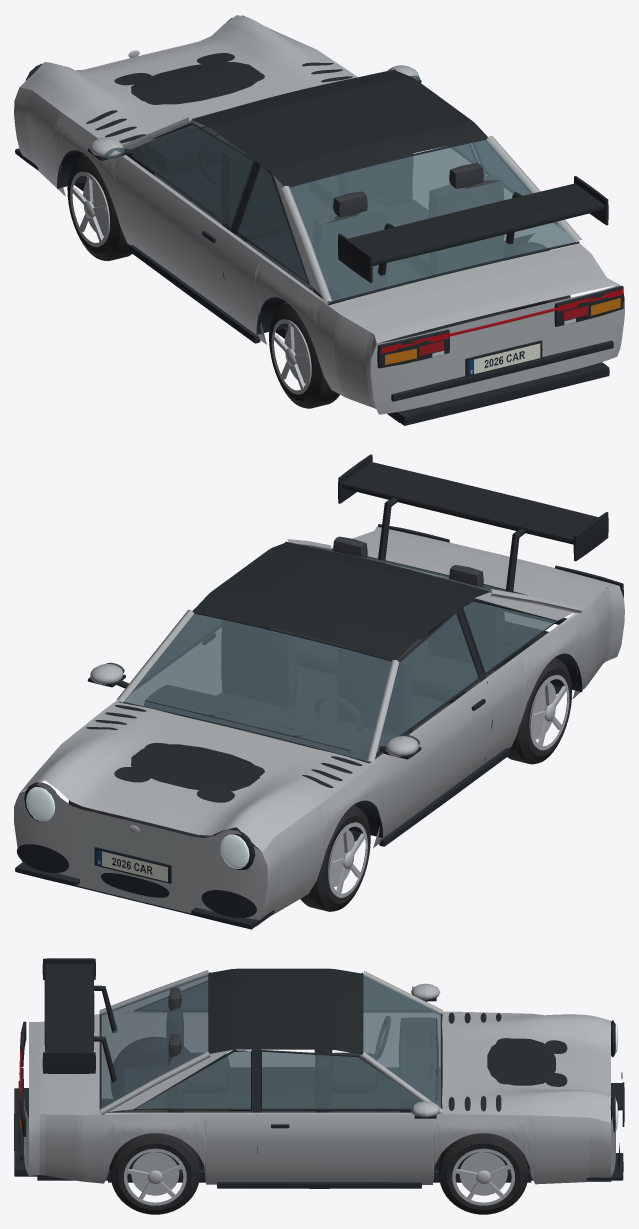
The model's file is Entrega_27_LOD0.glb.
3 views of the same model, one above another, from view 1: azimuth 30°, elevation 25°; view 2: azimuth 150°, elevation 25°; view 3: azimuth 270°, elevation 25° (orthographic). The views are drawn at different scales.
Parts seen in each view (by area): view 1: Body, Glass, Interior, RearWing, Wheel_RL, Wheel_FL, TailLights, Plates; view 2: Body, Glass, Interior, RearWing, Wheel_FL, Wheel_RL, Headlights, Plates; view 3: Body, Glass, Interior, RearWing, Wheel_RR, Wheel_FR, Wheel_RL.
Part boxes in pixels (x1=…): Body: x1=14, y1=15, x2=624, y2=425; Glass: x1=104, y1=75, x2=574, y2=302; Interior: x1=144, y1=127, x2=537, y2=339; RearWing: x1=338, y1=176, x2=608, y2=282; Wheel_RL: x1=269, y1=302, x2=339, y2=408; Wheel_FL: x1=67, y1=154, x2=131, y2=261; TailLights: x1=381, y1=289, x2=623, y2=353; Plates: x1=469, y1=343, x2=540, y2=375; Body: x1=14, y1=480, x2=624, y2=929; Glass: x1=106, y1=544, x2=555, y2=762; Interior: x1=144, y1=536, x2=503, y2=844; RearWing: x1=338, y1=454, x2=608, y2=561; Wheel_FL: x1=300, y1=805, x2=370, y2=911; Wheel_RL: x1=507, y1=657, x2=571, y2=764; Headlights: x1=26, y1=787, x2=249, y2=868; Plates: x1=96, y1=850, x2=167, y2=881; Body: x1=14, y1=968, x2=624, y2=1188; Glass: x1=101, y1=974, x2=440, y2=1114; Interior: x1=123, y1=987, x2=498, y2=1156; RearWing: x1=42, y1=958, x2=95, y2=1073; Wheel_RR: x1=110, y1=1133, x2=199, y2=1214; Wheel_FR: x1=439, y1=1133, x2=528, y2=1214; Wheel_RL: x1=111, y1=1037, x2=188, y2=1097.
Bounding box in the file's own units: 2.28 × 1.33 × 4.57.
14 materials, 1 textured.
